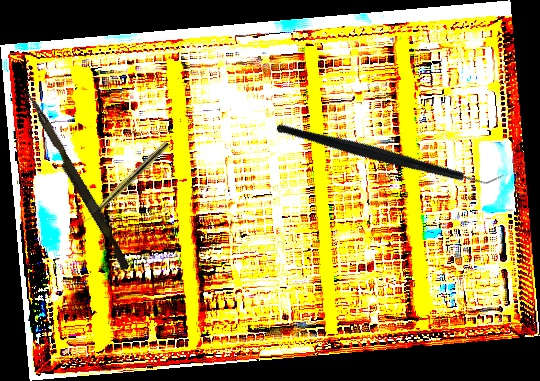Chopper: (274, 51, 507, 254)
Handpiece: (79, 139, 171, 228)
Pusher: (19, 91, 135, 271)
